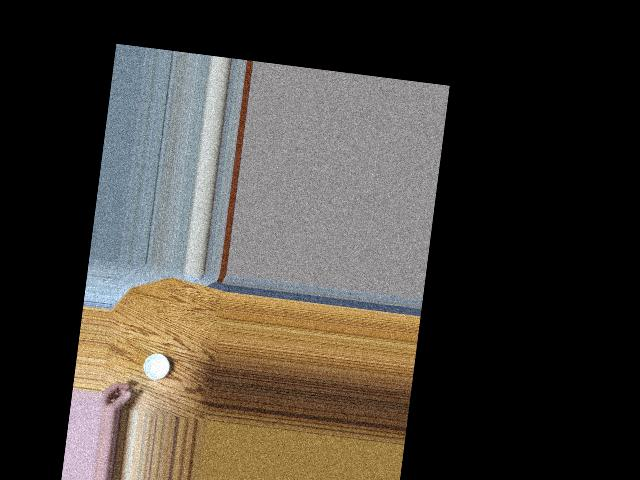cotage: (137, 349, 170, 386)
